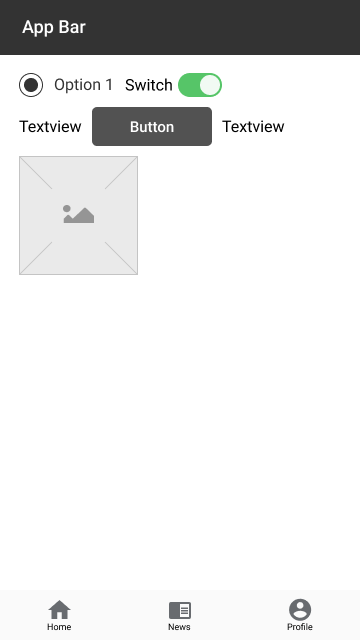button: (91, 105, 214, 148)
imageView: (17, 152, 141, 277)
navigationButton: (1, 594, 359, 637)
radioButton: (13, 70, 116, 100)
switch: (123, 71, 226, 100)
textView: (17, 114, 85, 138), (221, 119, 289, 136)
toolbar: (1, 1, 360, 56)
